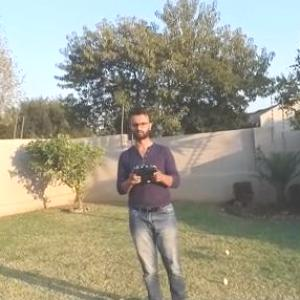follow: (112, 101, 189, 299)
